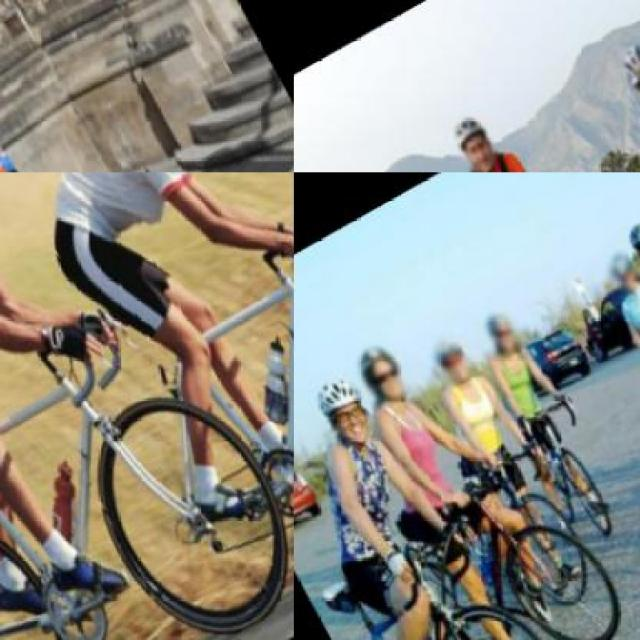With Helmet: (307, 366, 388, 459), (343, 331, 419, 417), (440, 106, 508, 171), (470, 296, 532, 364), (424, 327, 479, 391), (610, 29, 638, 128), (600, 245, 638, 300), (616, 212, 638, 276)
